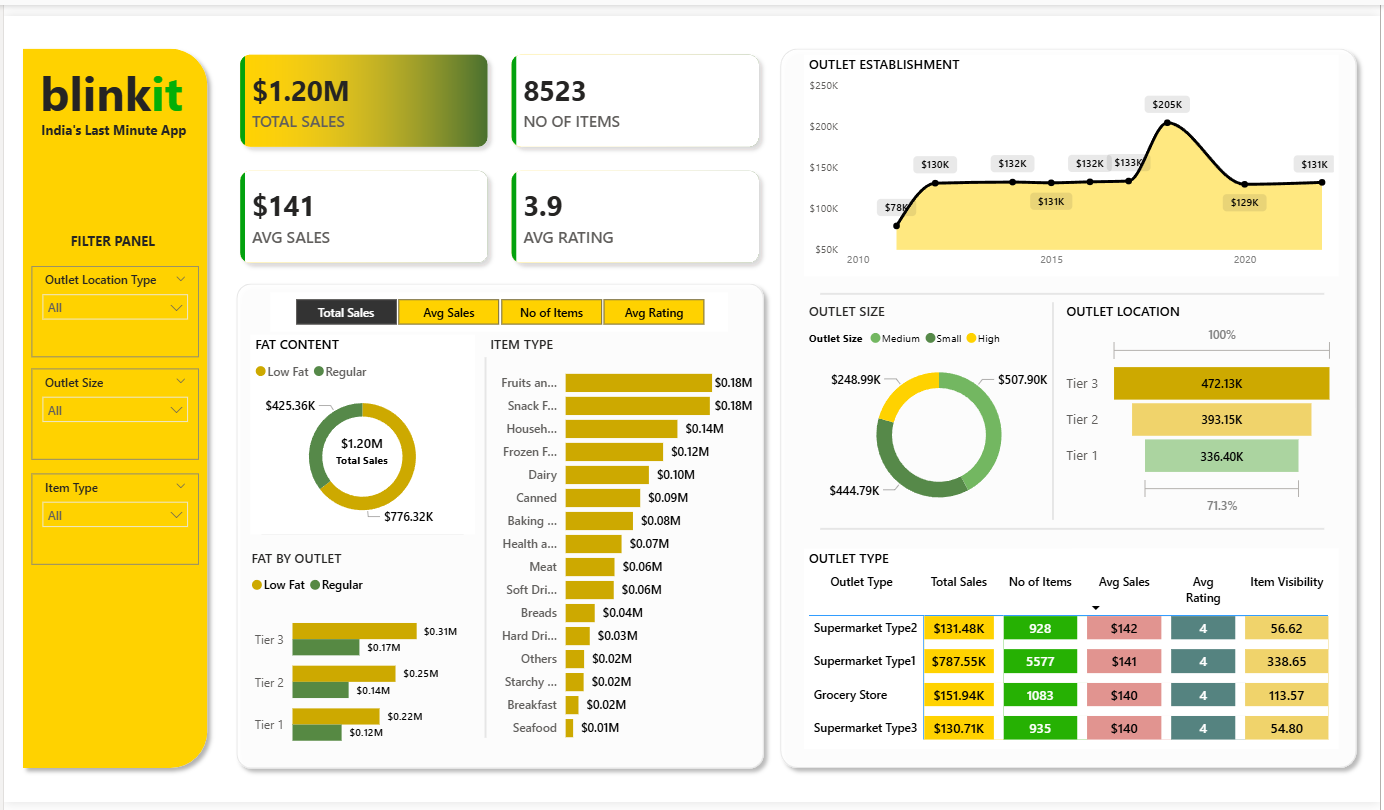

What the dashboard file says about the page in this screenshot:
{"tool":"powerbi","page":{"name":"Page 1","canvas":[1400,800],"ordinal":0},"visuals":[{"type":"shape","box":[10,24.3,205.7,750],"z":0},{"type":"textbox","box":[31.4,40,162.9,77.1],"z":1000},{"type":"textbox","box":[31.4,101.4,160,31.4],"z":2000},{"type":"cardVisual","fields":{"Data":["BlinkIT Grocery Data.Total Sales","BlinkIT Grocery Data.No of Items","BlinkIT Grocery Data.Avg Sales","BlinkIT Grocery Data.Avg Rating"]},"box":[215.7,10,577.1,271.4],"z":3000},{"type":"shape","box":[227.1,262.9,554.3,511.4],"z":4000},{"type":"slicer","title":"FAT CONTENT","fields":{"Values":["BlinkIT Grocery Data.Outlet Location Type"]},"box":[28.6,254.3,170,92.9],"z":5000},{"type":"slicer","fields":{"Values":["Metrics .Metrics "]},"box":[271.4,281.4,465.7,40],"z":6000},{"type":"clusteredBarChart","title":"FAT BY OUTLET","fields":{"Y":["BlinkIT Grocery Data.Total Sales"],"Category":["BlinkIT Grocery Data.Outlet Location Type"],"Series":["BlinkIT Grocery Data.Item Fat Content"]},"box":[247.1,541.4,220,220],"z":7000},{"type":"shape","box":[261.4,512.9,205.7,28.6],"z":8000},{"type":"shape","box":[475.7,347.1,28.6,387.1],"z":9000},{"type":"barChart","title":"ITEM TYPE","fields":{"Y":["BlinkIT Grocery Data.Total Sales"],"Category":["BlinkIT Grocery Data.Item Type"]},"box":[490,324.3,277.1,424.3],"z":10000},{"type":"shape","box":[781.4,24.3,604.3,750],"z":11000},{"type":"lineChart","title":"OUTLET ESTABLISHMENT ","fields":{"Y":["BlinkIT Grocery Data.Total Sales"],"Category":["BlinkIT Grocery Data.Outlet Establishment Year"]},"box":[814.3,40,544.3,225.7],"z":12000},{"type":"shape","box":[830,272.9,512.9,18.6],"z":13000},{"type":"donutChart","title":"OUTLET SIZE","fields":{"Y":["BlinkIT Grocery Data.Total Sales"],"Category":["BlinkIT Grocery Data.Outlet Size"]},"box":[814.3,291.4,275,225],"z":14000},{"type":"shape","box":[1060,291.4,15.7,221.4],"z":15000},{"type":"funnel","title":"OUTLET LOCATION","fields":{"Y":["Sum(BlinkIT Grocery Data.Sales)"],"Category":["BlinkIT Grocery Data.Outlet Location Type"]},"box":[1075.7,291.4,282.9,221.4],"z":16000},{"type":"shape","box":[830,512.9,512.9,18.6],"z":17000},{"type":"pivotTable","title":"OUTLET TYPE","fields":{"Values":["BlinkIT Grocery Data.Total Sales","BlinkIT Grocery Data.No of Items","BlinkIT Grocery Data.Avg Sales","BlinkIT Grocery Data.Avg Rating","Sum(BlinkIT Grocery Data.Item Visibility)"],"Rows":["BlinkIT Grocery Data.Outlet Type"]},"box":[814.3,541.4,544.3,204.3],"z":18000},{"type":"slicer","title":"FAT CONTENT","fields":{"Values":["BlinkIT Grocery Data.Outlet Size"]},"box":[28.6,358.6,170,92.9],"z":19000},{"type":"donutChart","title":"FAT CONTENT","fields":{"Y":["BlinkIT Grocery Data.Total Sales"],"Category":["BlinkIT Grocery Data.Item Fat Content"]},"box":[250,324.3,228.6,202.9],"z":21000},{"type":"cardVisual","fields":{"Data":["BlinkIT Grocery Data.Total Sales"]},"box":[300,405.7,128.6,72.9],"z":22000},{"type":"slicer","title":"FAT CONTENT","fields":{"Values":["BlinkIT Grocery Data.Item Type"]},"box":[28.6,465.7,170,92.9],"z":23000},{"type":"textbox","box":[49.6,214.5,126,29.5],"z":23001}]}

Visuals, with their boxes in screenshot pixels (x1, y1, x2, y2), scaled from the page's 1400x800 canvas onto the 1384x810 screenshot:
shape: x1=10, y1=25, x2=213, y2=784
textbox: x1=31, y1=40, x2=192, y2=119
textbox: x1=31, y1=103, x2=189, y2=134
cardVisual - BlinkIT Grocery Data.Total Sales x BlinkIT Grocery Data.No of Items: x1=213, y1=10, x2=784, y2=285
shape: x1=225, y1=266, x2=772, y2=784
"FAT CONTENT" slicer: x1=28, y1=257, x2=196, y2=352
slicer - Metrics .Metrics : x1=268, y1=285, x2=729, y2=325
"FAT BY OUTLET" clusteredBarChart: x1=244, y1=548, x2=462, y2=771
shape: x1=258, y1=519, x2=462, y2=548
shape: x1=470, y1=351, x2=499, y2=743
"ITEM TYPE" barChart: x1=484, y1=328, x2=758, y2=758
shape: x1=772, y1=25, x2=1370, y2=784
"OUTLET ESTABLISHMENT " lineChart: x1=805, y1=40, x2=1343, y2=269
shape: x1=821, y1=276, x2=1328, y2=295
"OUTLET SIZE" donutChart: x1=805, y1=295, x2=1077, y2=523
shape: x1=1048, y1=295, x2=1063, y2=519
"OUTLET LOCATION" funnel: x1=1063, y1=295, x2=1343, y2=519
shape: x1=821, y1=519, x2=1328, y2=538
"OUTLET TYPE" pivotTable: x1=805, y1=548, x2=1343, y2=755
"FAT CONTENT" slicer: x1=28, y1=363, x2=196, y2=457
"FAT CONTENT" donutChart: x1=247, y1=328, x2=473, y2=534
cardVisual - BlinkIT Grocery Data.Total Sales: x1=297, y1=411, x2=424, y2=485
"FAT CONTENT" slicer: x1=28, y1=472, x2=196, y2=566
textbox: x1=49, y1=217, x2=174, y2=247
